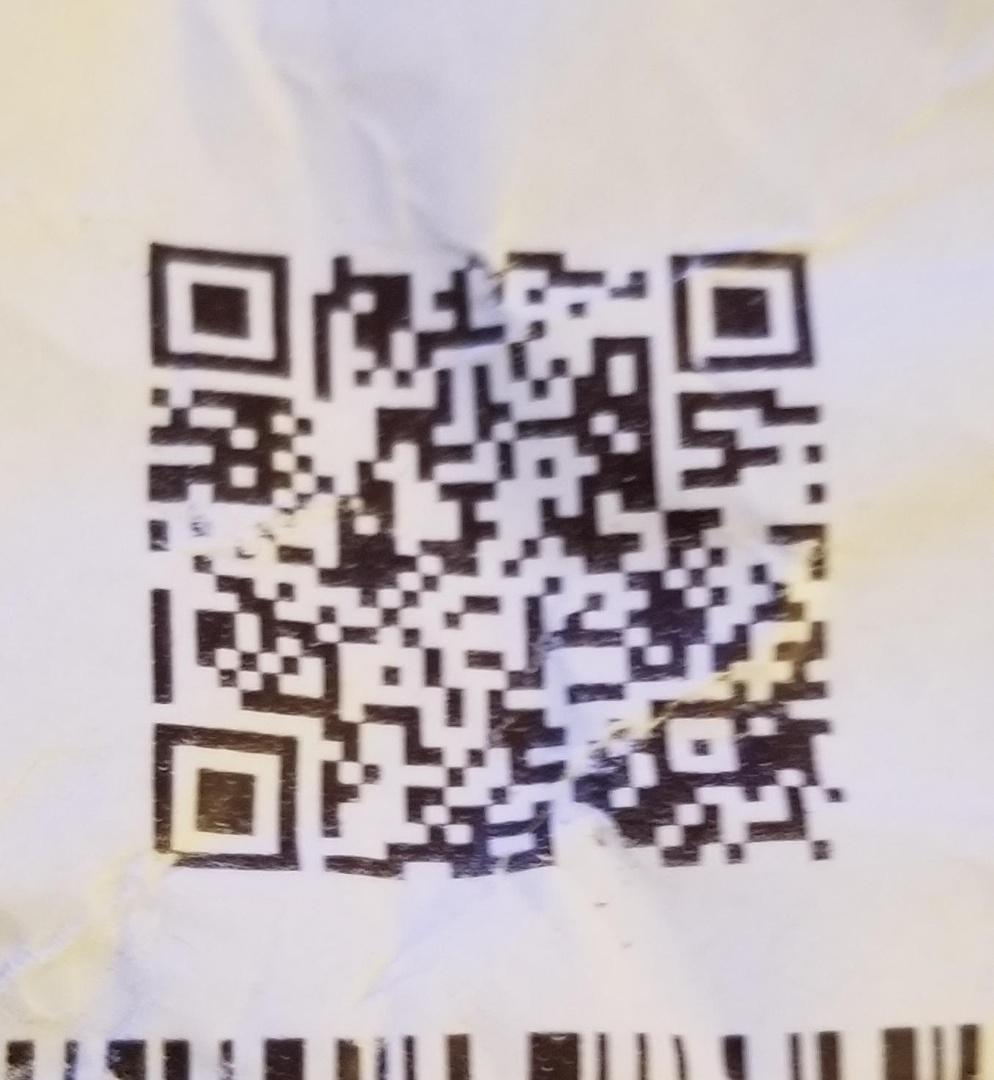Finder pattern: (142, 713, 312, 880), (134, 230, 300, 384), (661, 245, 824, 378)
